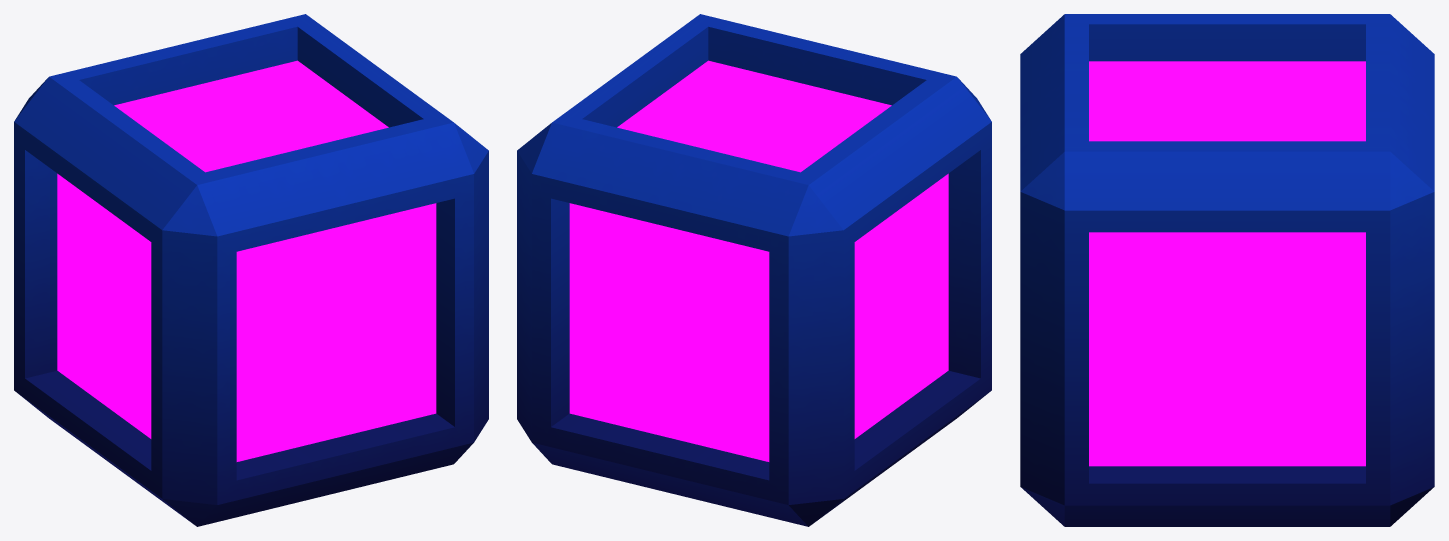
Rendered from item_001.fbx.
3 renders of one model, left to right at view 1: azimuth 30°, elevation 25°; view 2: azimuth 150°, elevation 25°; view 3: azimuth 270°, elevation 25°, orthographic. The views are drawn at different scales.
Visible parts, largest first — view 1: item.001; view 2: item.001; view 3: item.001.
Part boxes in pixels (bbox=[...]): item.001: bbox=[14, 14, 488, 526]; item.001: bbox=[517, 14, 991, 526]; item.001: bbox=[1020, 14, 1434, 526].
Bounding box in the file's own units: 147 × 147 × 147.
